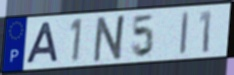1: (198, 8, 214, 55), (68, 17, 83, 64)
5: (128, 12, 156, 59)
A: (24, 21, 60, 66)
I: (178, 10, 191, 57)
N: (91, 13, 129, 64)
